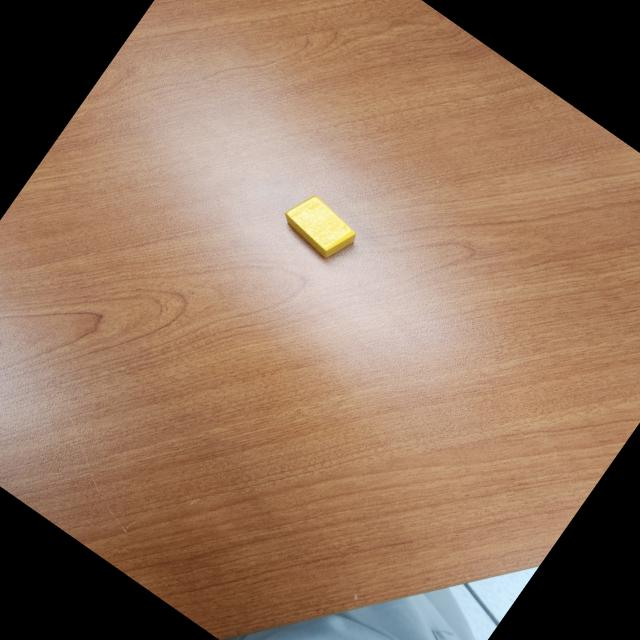yellow: (275, 186, 363, 267)
